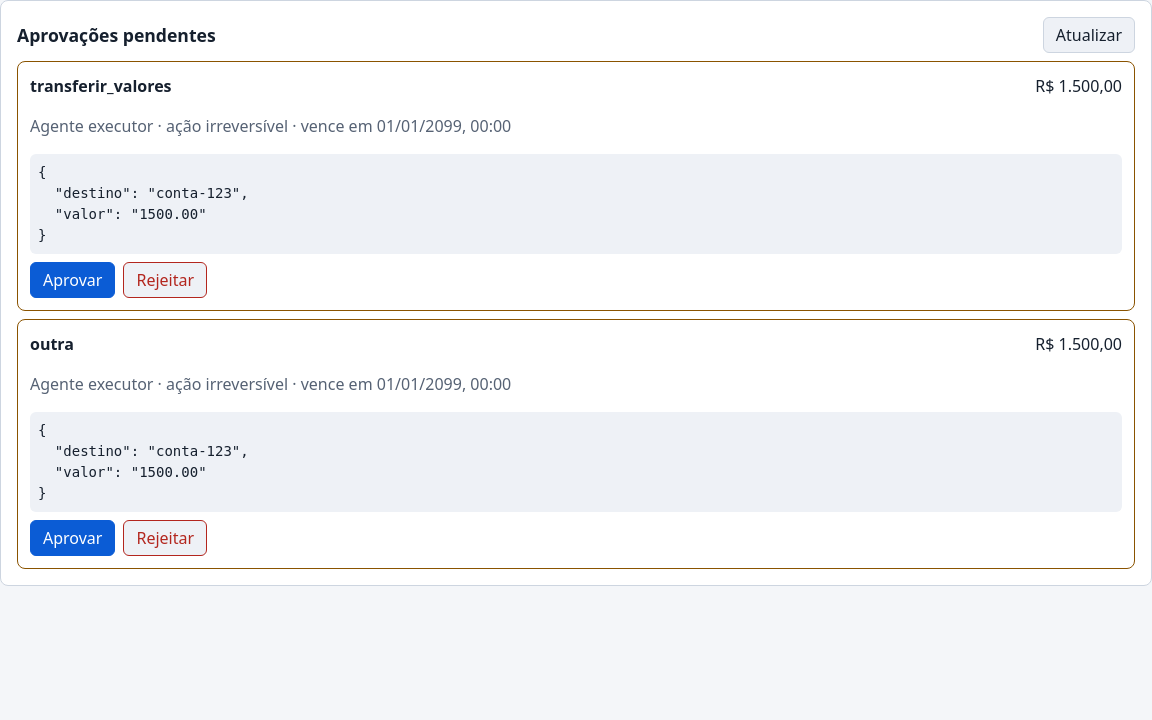
Test: InboxPanel › 403 mostra 'Esta chave não pode aprovar' e desabilita aprovar/rejeitar
This screenshot has width=1152, height=720.
What coordinates should you click on to do the following:
click the button "Aprovar" below "transferir_valores"
I would click on:
 (73, 280)
Its box is 30,262 -> 115,298.
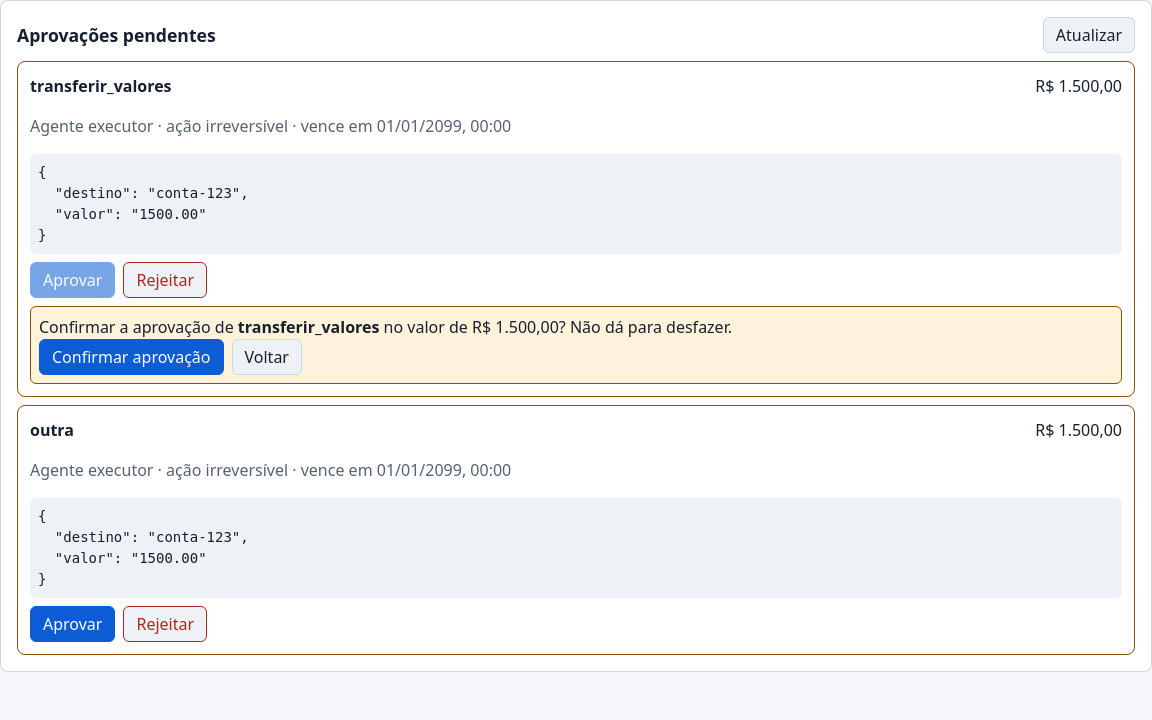
What coordinates should you click on to do the following:
click the button "Confirmar aprovação"
I would click on:
 (131, 357)
Its box is 39,339 -> 224,375.
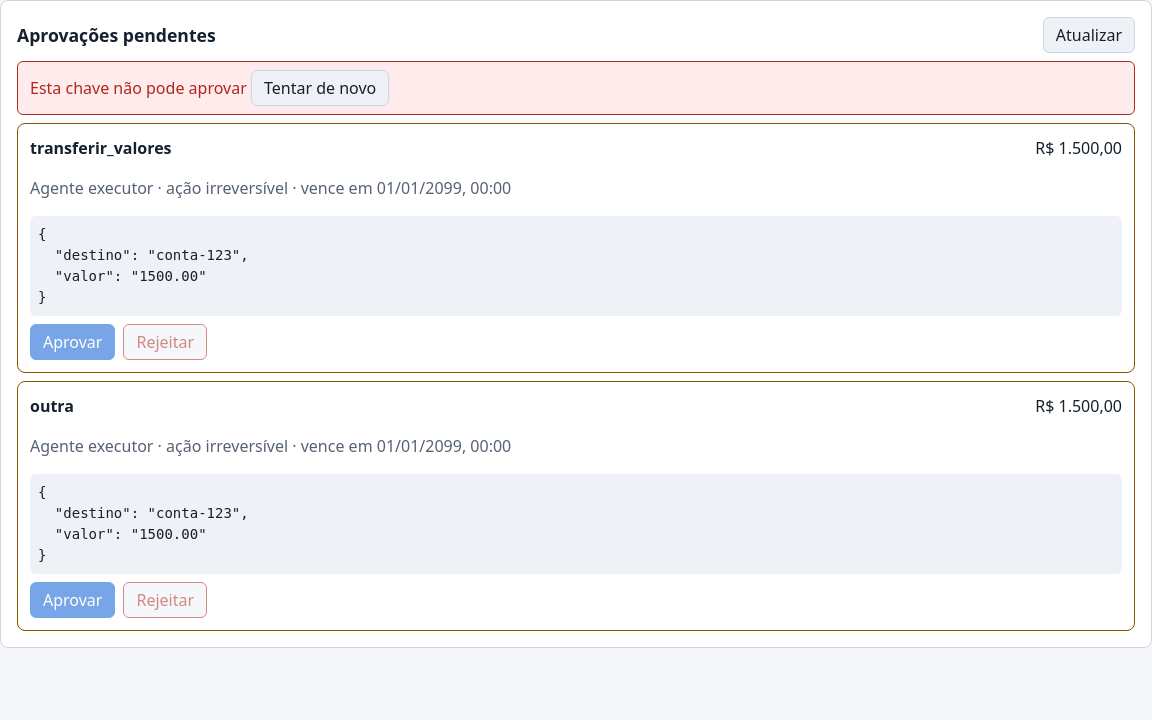
Result: the button "Aprovar" below "transferir_valores" is disabled at 30,324 -> 115,360
Result: the text "Esta chave não pode aprovar" is shown at 30,77 -> 247,99
Result: the button "Rejeitar" below "transferir_valores" is disabled at 123,324 -> 207,360
